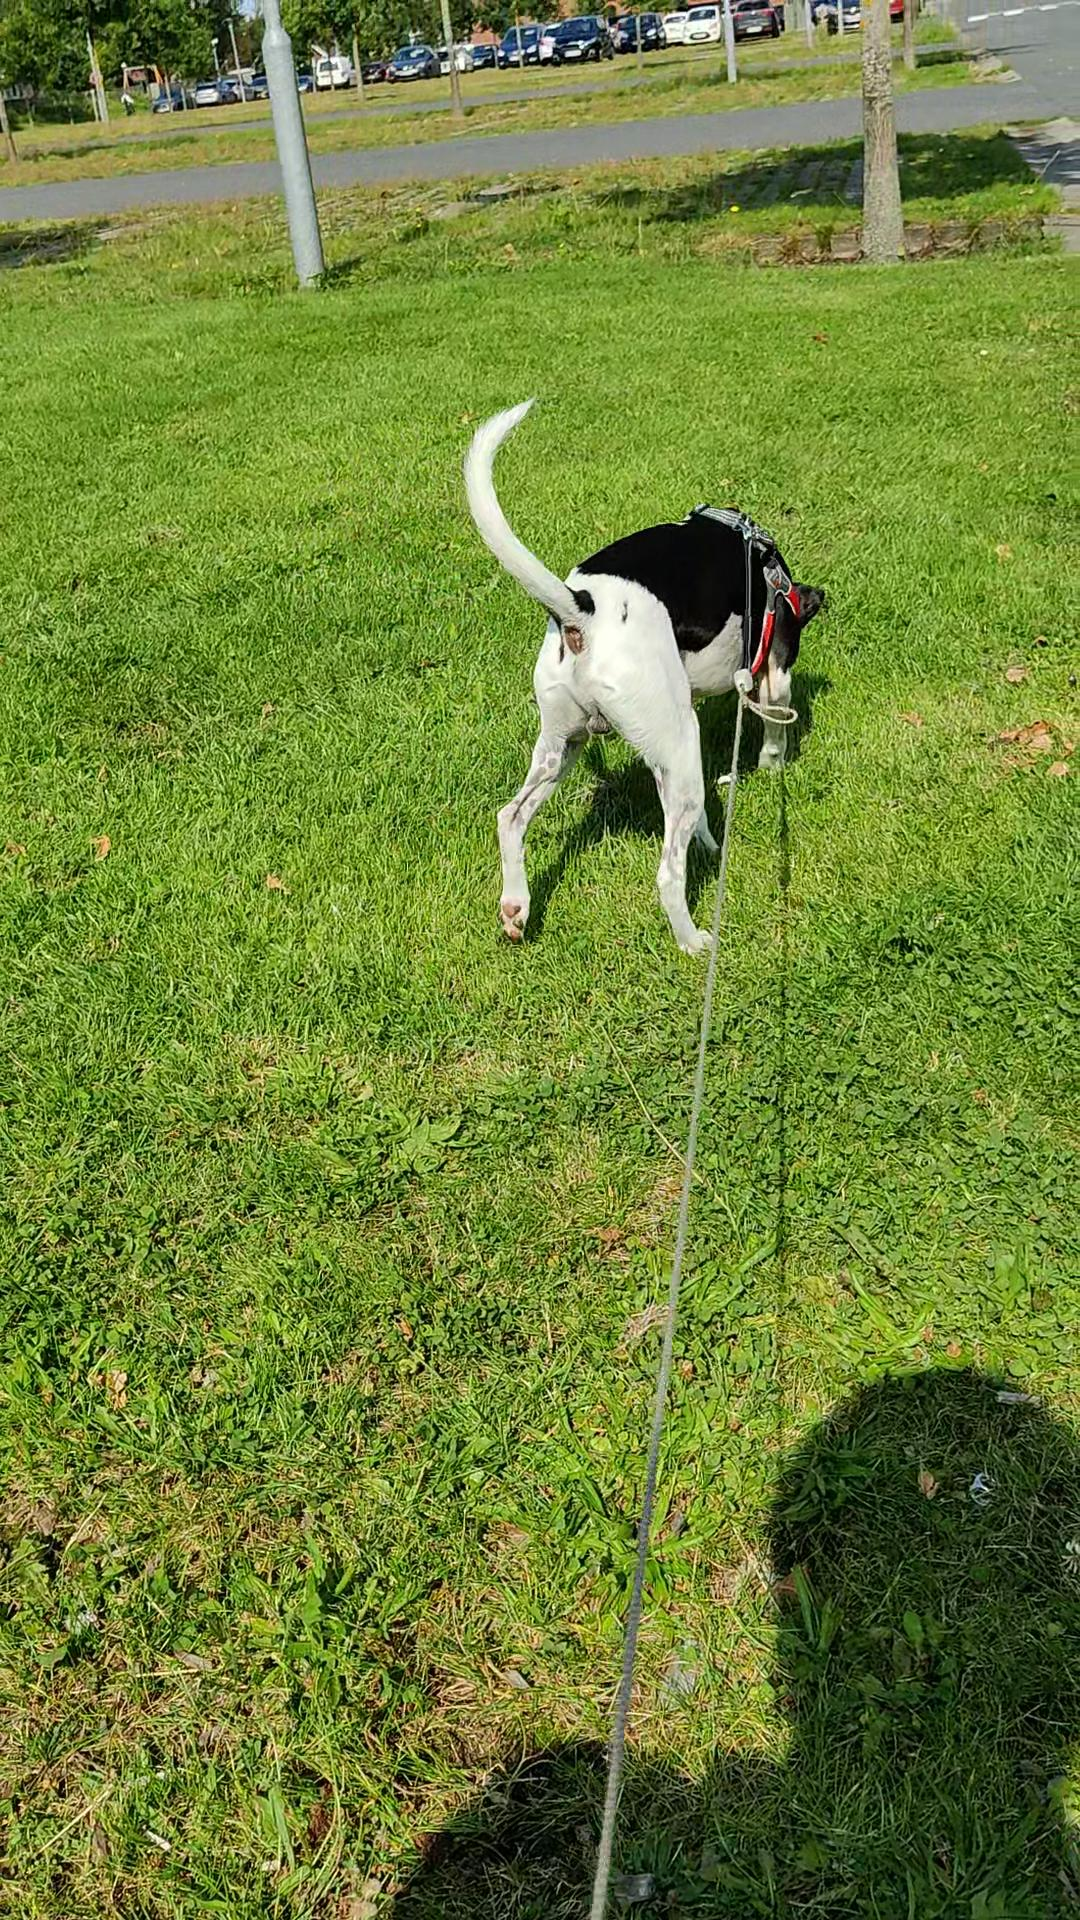Dog: (438, 377, 858, 975)
